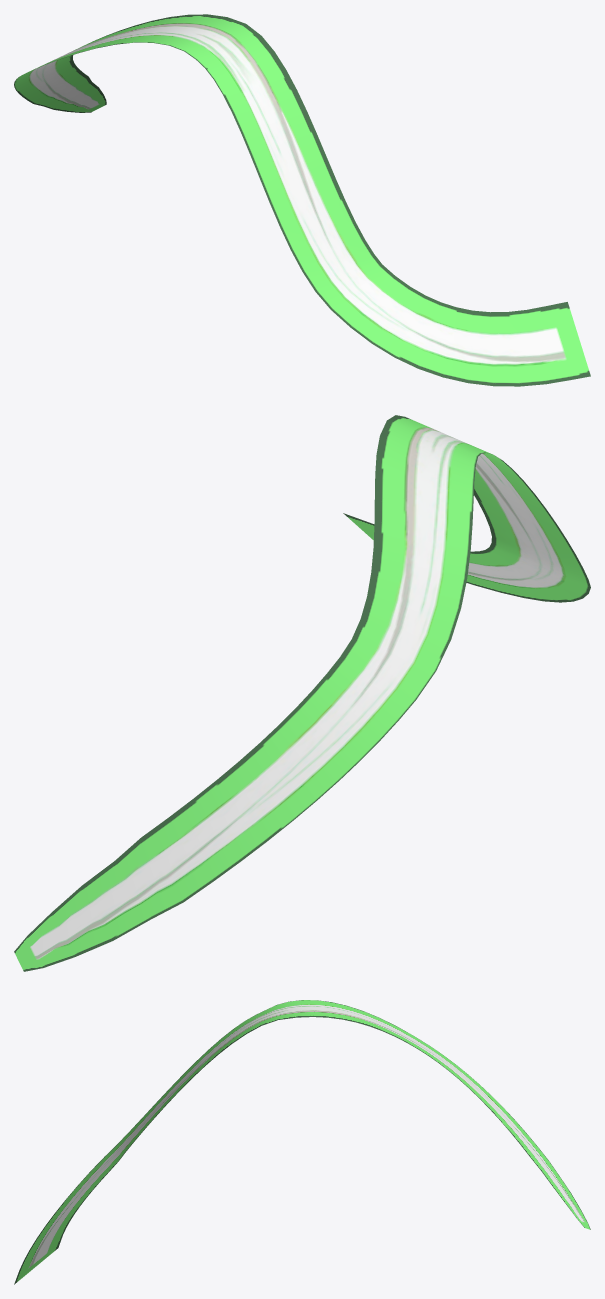
The model's file is piaodai_7.FBX.
3 renders of one model, top to bottom at view 1: azimuth 30°, elevation 25°; view 2: azimuth 150°, elevation 25°; view 3: azimuth 270°, elevation 25°, orthographic. The views are drawn at different scales.
Parts seen in each view (by area): view 1: Plane001; view 2: Plane001; view 3: Plane001.
Boxes of the visible parts, x1=… form: Plane001: x1=14, y1=14, x2=590, y2=386; Plane001: x1=14, y1=415, x2=590, y2=971; Plane001: x1=14, y1=1000, x2=590, y2=1284.
Size of the model in its own units: 97.77 by 82.88 by 214.
